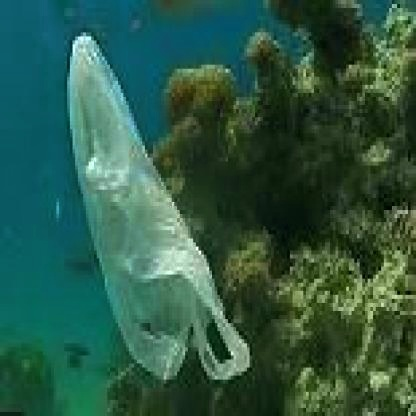plastic: (46, 40, 255, 400)
